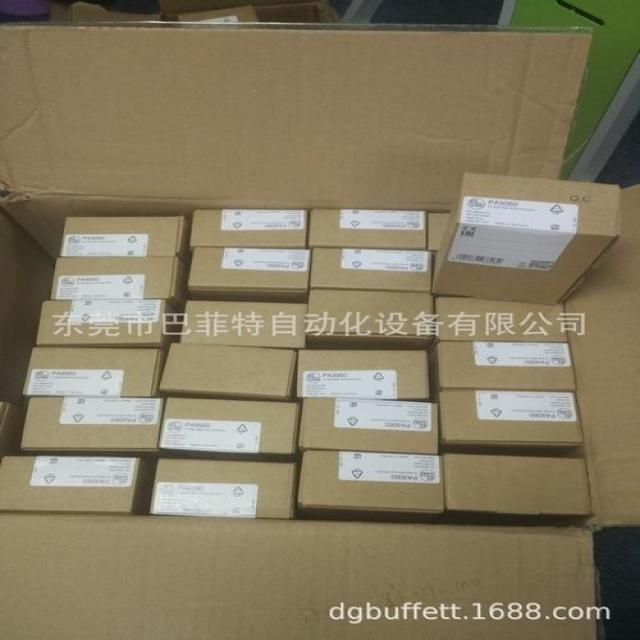box: (430, 173, 621, 304), (295, 449, 443, 525), (442, 454, 591, 529), (437, 388, 584, 457), (21, 397, 165, 459), (429, 341, 575, 402), (161, 397, 300, 460), (151, 459, 295, 519), (298, 396, 439, 454), (1, 457, 139, 514), (306, 289, 434, 350), (160, 343, 299, 399), (23, 347, 167, 396), (187, 247, 310, 302), (179, 298, 305, 349), (299, 351, 429, 400), (37, 300, 172, 347), (52, 255, 189, 300), (435, 298, 568, 341), (308, 249, 432, 291), (62, 218, 191, 258), (306, 210, 427, 251), (189, 210, 307, 249), (426, 212, 449, 248)
